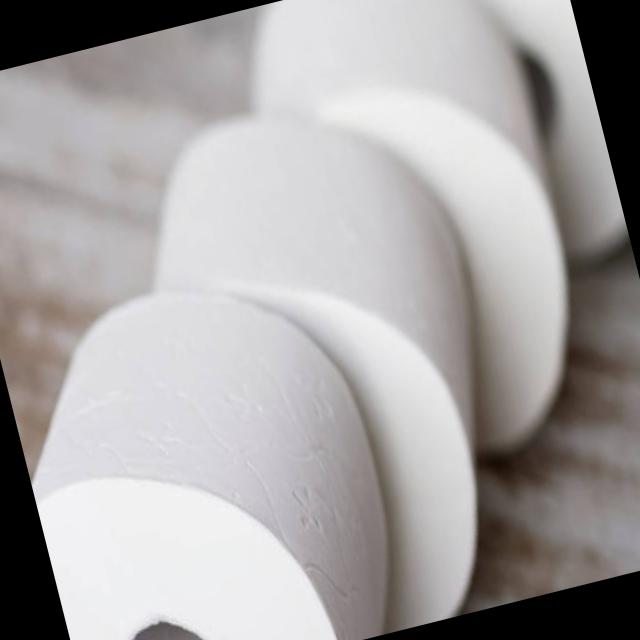electronic: (116, 68, 514, 532), (0, 245, 418, 640), (151, 221, 509, 640), (310, 48, 608, 480), (228, 0, 574, 331), (430, 0, 633, 284)
